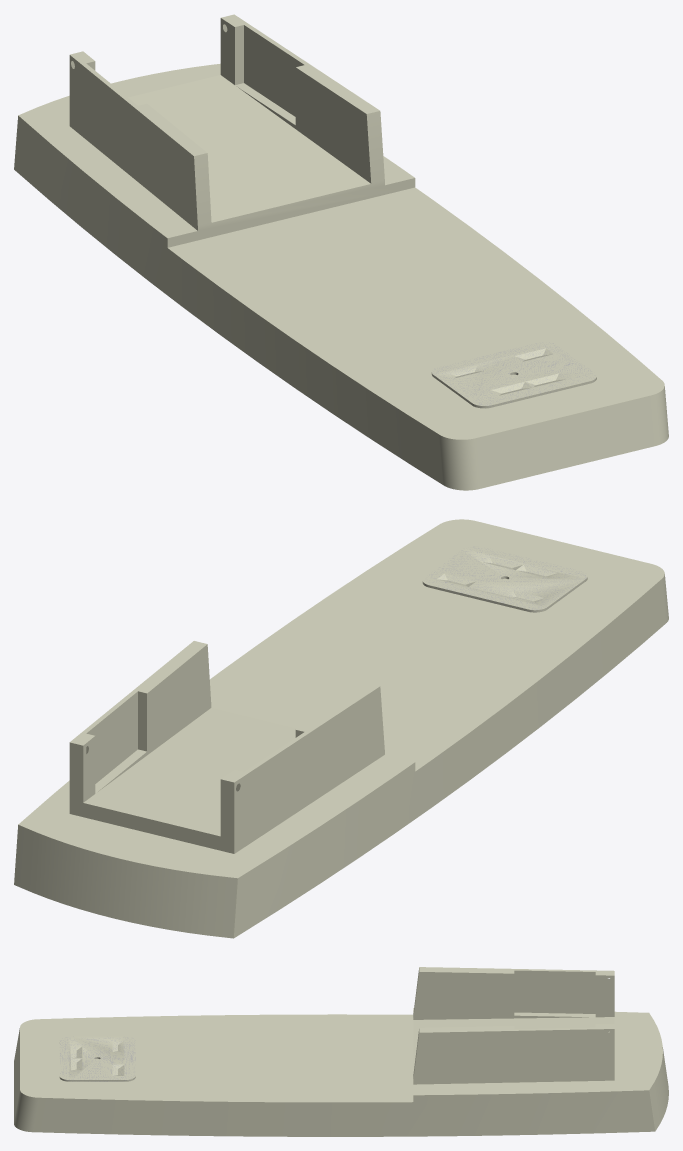
Rendered from original-8.obj.
3 views of the same model, one above another, from view 1: azimuth 30°, elevation 25°; view 2: azimuth 150°, elevation 25°; view 3: azimuth 270°, elevation 25° (orthographic). The views are drawn at different scales.
Parts seen in each view (by area): view 1: Group5/mesh8/mesh8-geometry#mesh8-geometry; view 2: Group5/mesh8/mesh8-geometry#mesh8-geometry; view 3: Group5/mesh8/mesh8-geometry#mesh8-geometry.
Boxes of the visible parts, x1,y1,x2,y2 form: Group5/mesh8/mesh8-geometry#mesh8-geometry: [14, 14, 668, 490]; Group5/mesh8/mesh8-geometry#mesh8-geometry: [14, 519, 668, 938]; Group5/mesh8/mesh8-geometry#mesh8-geometry: [14, 967, 668, 1136].
Bounding box in the file's own units: 0.6083 × 0.2997 × 1.91.
